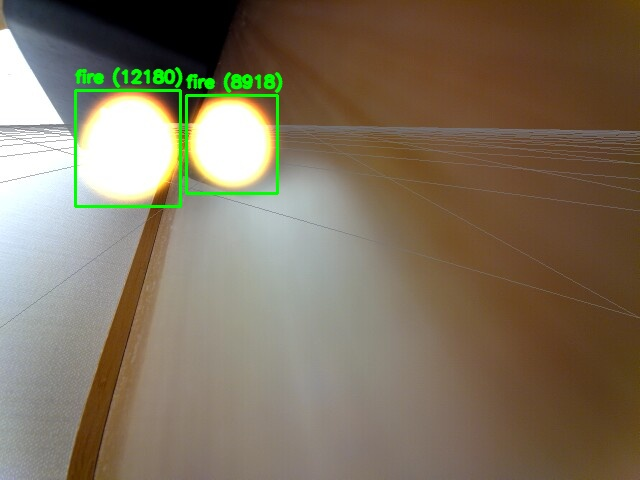fire: (75, 90, 180, 206), (186, 95, 277, 193)
